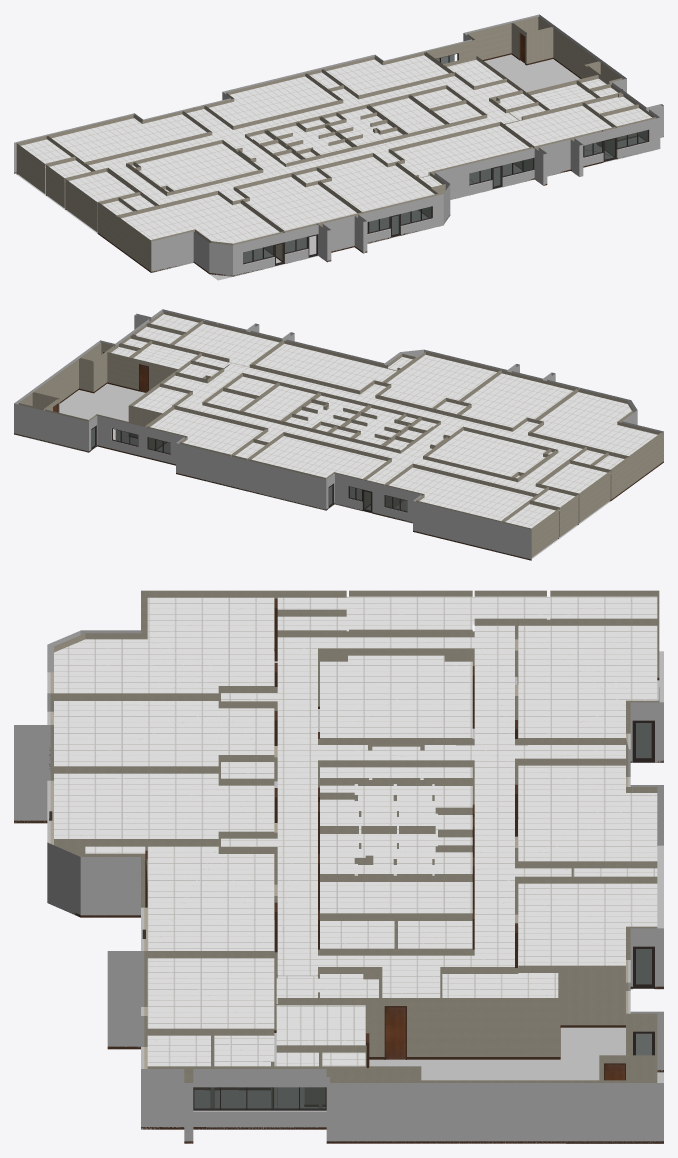
The model's file is FloorPlan.FBX.
3 views of the same model, one above another, from view 1: azimuth 30°, elevation 25°; view 2: azimuth 150°, elevation 25°; view 3: azimuth 270°, elevation 25° (orthographic). The views are drawn at different scales.
Visible parts, largest first — view 1: Walls, Walls_Exterior, Ceiling_Hallway, Ceiling_Act_Rm_5, Ceiling_Bathrooms, Ceiling_Act_Rm_4, Ceiling_Act_Rm_3, Ceiling_Act_Rm_2, Ceiling_Act_Rm_1, Ceiling_Art_Area, Ceiling_Act_Rm_6, Ceiling_Act_Rm_7 (+12 smaller); view 2: Walls, Walls_Exterior, Ceiling_Hallway, Ceiling_Act_Rm_5, Ceiling_Bathrooms, Ceiling_Act_Rm_4, Ceiling_Act_Rm_3, Ceiling_Act_Rm_2, Ceiling_Act_Rm_1, Ceiling_Art_Area, Ceiling_Act_Rm_6, Ceiling_Act_Rm_7 (+10 smaller); view 3: Walls, Walls_Exterior, Ceiling_Hallway, Ceiling_Act_Rm_5, Ceiling_Bathrooms, Ceiling_Act_Rm_4, Ceiling_Act_Rm_3, Ceiling_Act_Rm_2, Ceiling_Act_Rm_1, Ceiling_Act_Rm_6, Ceiling_Art_Area, Ceiling_Act_Rm_7 (+16 smaller).
Boxes of the visible parts, x1,y1,x2,y2 form: Walls: (16, 16, 655, 271); Walls_Exterior: (14, 14, 663, 276); Ceiling_Hallway: (89, 76, 518, 204); Ceiling_Act_Rm_5: (21, 114, 206, 215); Ceiling_Bathrooms: (249, 98, 444, 163); Ceiling_Act_Rm_4: (121, 194, 279, 243); Ceiling_Act_Rm_3: (239, 177, 356, 230); Ceiling_Act_Rm_2: (321, 157, 434, 211); Ceiling_Act_Rm_1: (394, 126, 529, 177); Ceiling_Art_Area: (132, 143, 257, 191); Ceiling_Act_Rm_6: (209, 76, 337, 125); Ceiling_Act_Rm_7: (326, 55, 448, 95); Walls: (18, 311, 663, 557); Walls_Exterior: (14, 309, 663, 560); Ceiling_Hallway: (164, 363, 582, 493); Ceiling_Act_Rm_5: (389, 450, 624, 528); Ceiling_Bathrooms: (244, 385, 436, 450); Ceiling_Act_Rm_4: (533, 392, 657, 455); Ceiling_Act_Rm_3: (461, 373, 572, 427); Ceiling_Act_Rm_2: (381, 355, 496, 407); Ceiling_Act_Rm_1: (256, 343, 396, 390); Ceiling_Art_Area: (428, 430, 552, 478); Ceiling_Act_Rm_6: (252, 436, 386, 478); Ceiling_Act_Rm_7: (150, 409, 262, 454); Walls: (50, 590, 659, 1107); Walls_Exterior: (14, 630, 663, 1143); Ceiling_Hallway: (221, 625, 625, 997); Ceiling_Act_Rm_5: (277, 596, 657, 737); Ceiling_Bathrooms: (320, 767, 472, 913); Ceiling_Act_Rm_4: (54, 597, 274, 693); Ceiling_Act_Rm_3: (54, 701, 274, 766); Ceiling_Act_Rm_2: (54, 773, 274, 838); Ceiling_Act_Rm_1: (147, 846, 274, 950); Ceiling_Act_Rm_6: (518, 765, 657, 861); Ceiling_Art_Area: (320, 655, 472, 737); Ceiling_Act_Rm_7: (518, 883, 657, 965).
Bounding box in the file's own units: 53.24 × 29.61 × 3.09.
